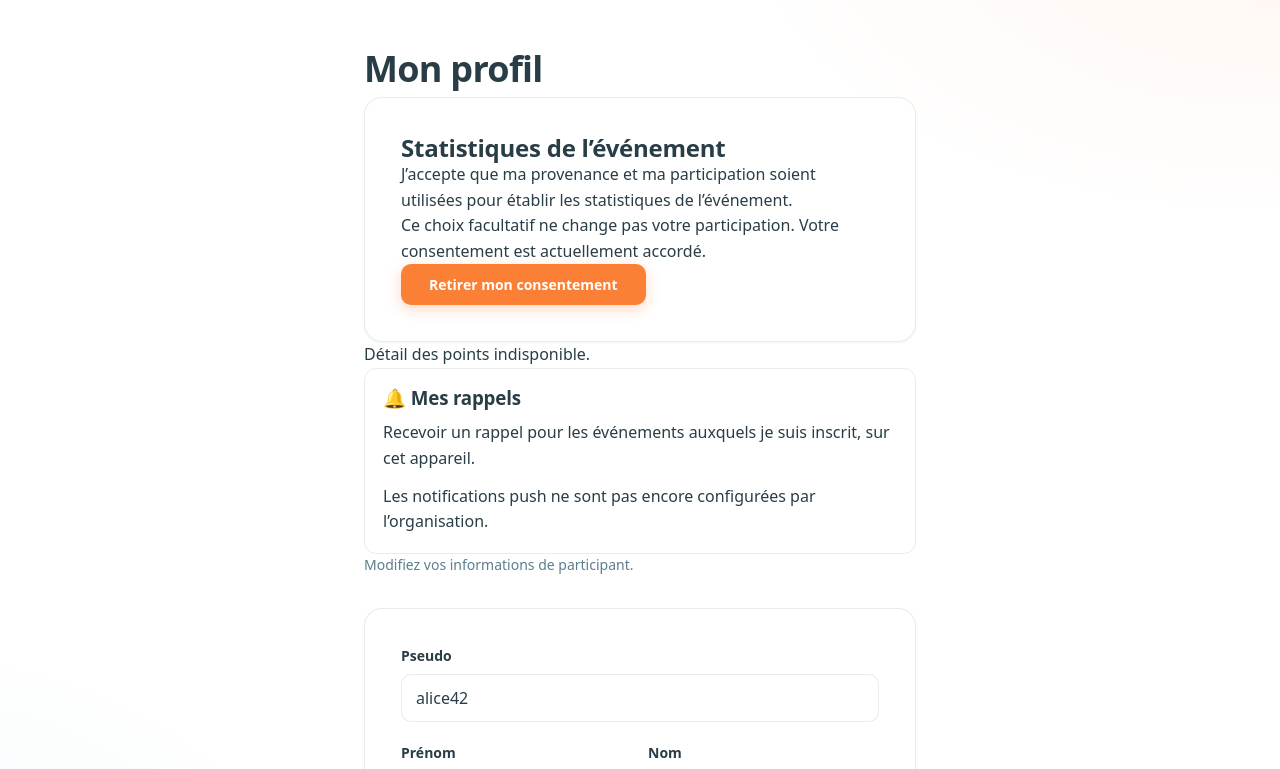
Test: ProfilePage › retire le consentement aux statistiques en une action
Step 1. Click the button "Retirer mon consentement" → (523, 285), box [401,264,646,305]
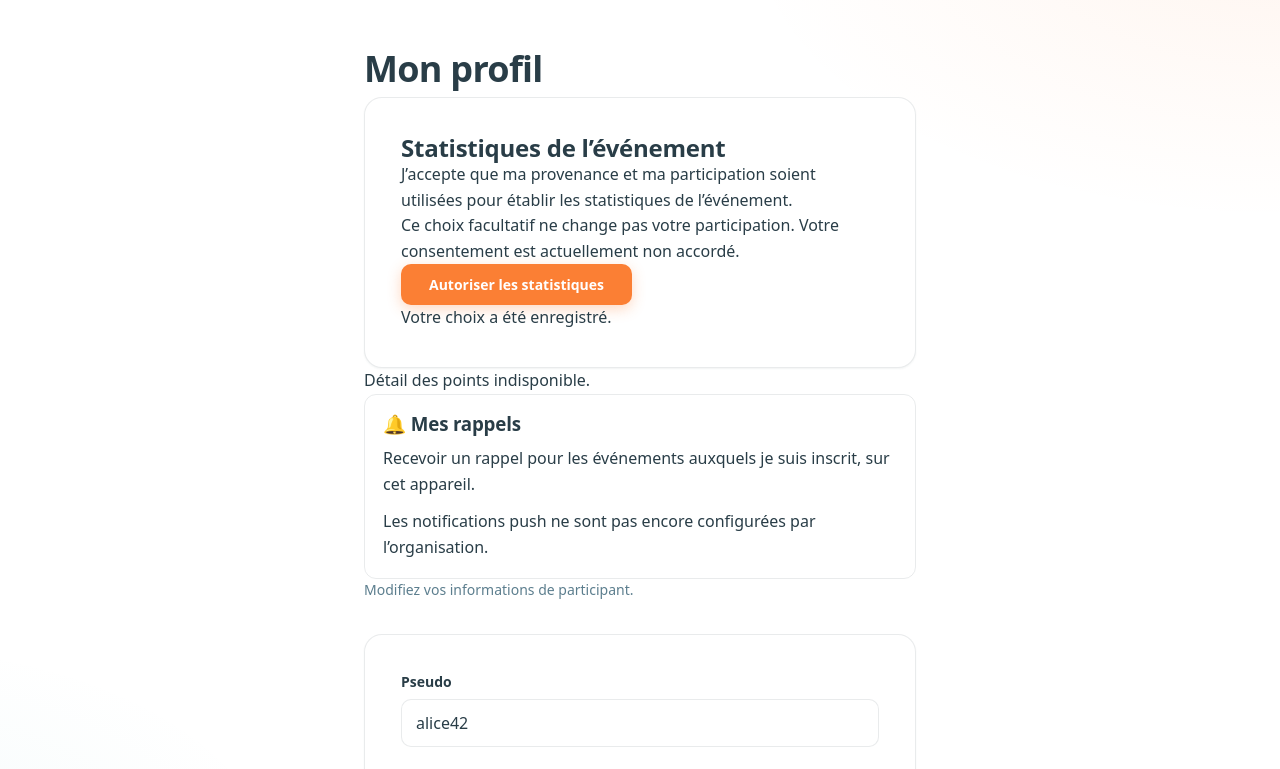
Expected: the text "Votre choix a été enregistré." is shown, [401,306,612,328]
Expected: the button "Autoriser les statistiques" is shown, [401,264,632,305]
